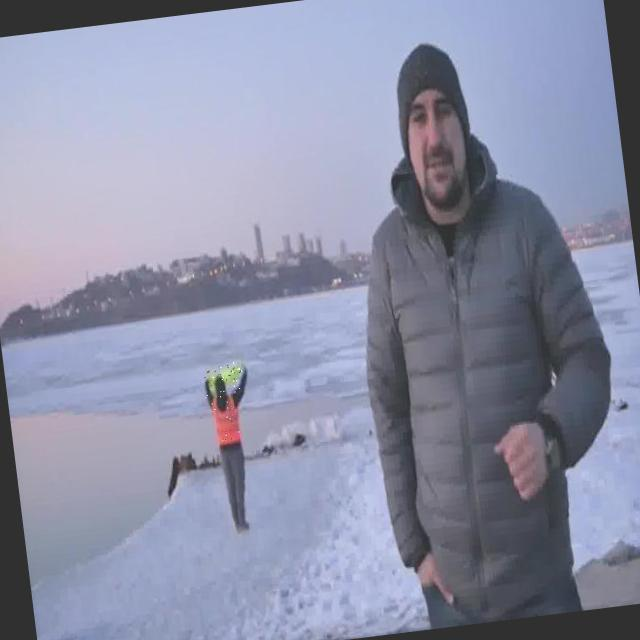no-gloves: (494, 414, 557, 498)
no-helmet: (399, 86, 474, 204)
vest: (210, 391, 242, 448), (203, 361, 246, 396)
